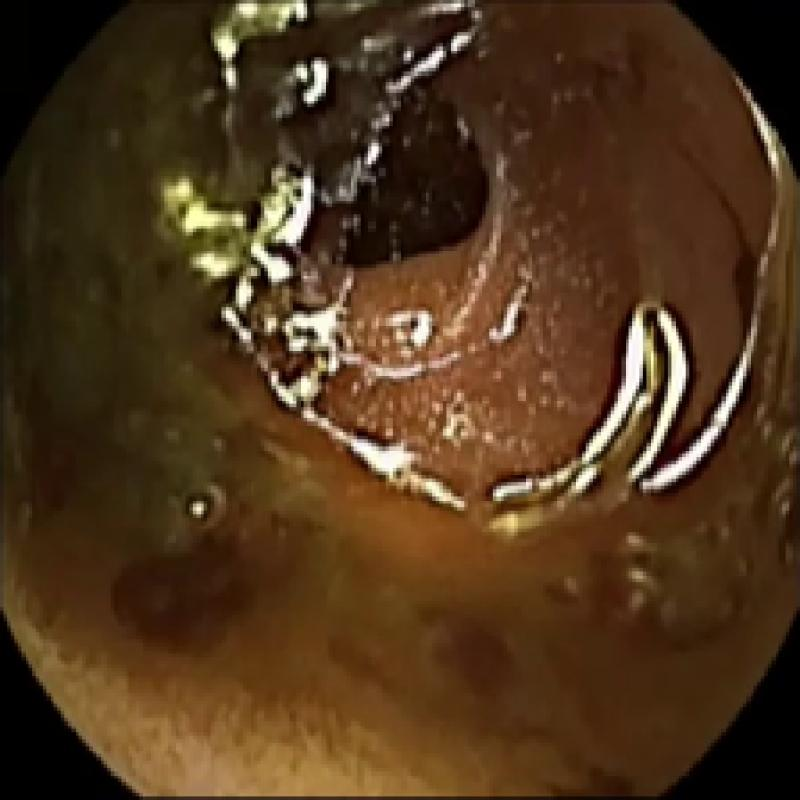bleeding: (572, 189, 772, 449), (350, 93, 482, 282), (114, 507, 278, 659), (24, 382, 72, 516)
